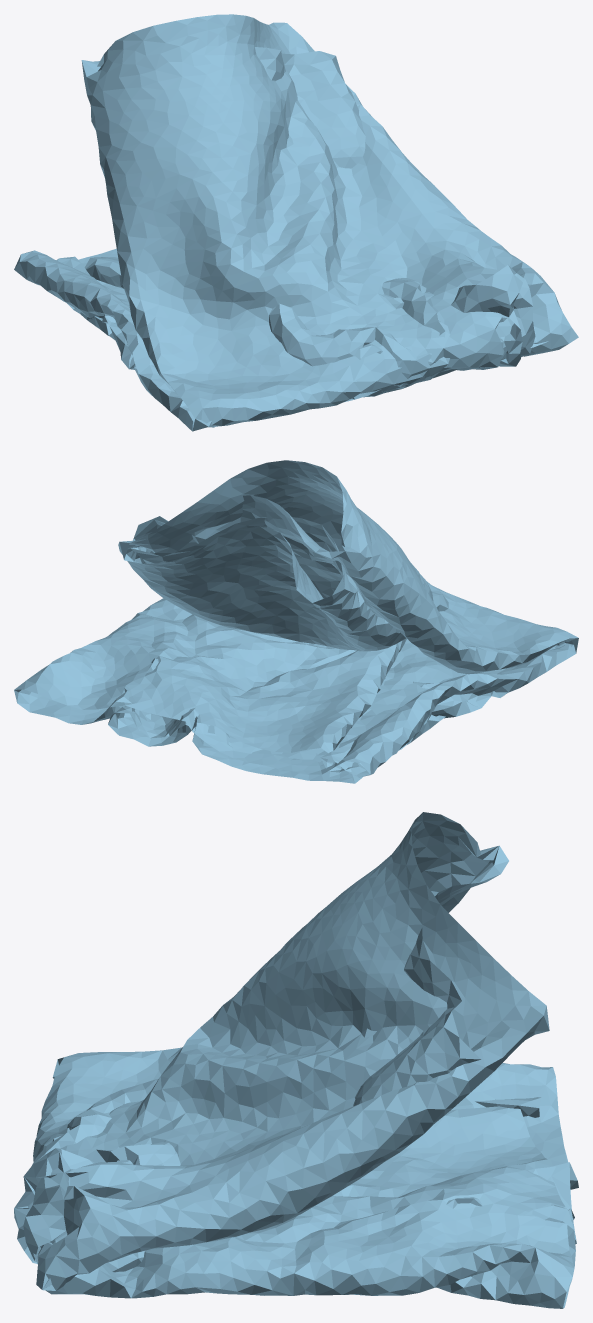
The model's file is frame_18.glb.
3 renders of one model, top to bottom at view 1: azimuth 30°, elevation 25°; view 2: azimuth 150°, elevation 25°; view 3: azimuth 270°, elevation 25°, orthographic. The views are drawn at different scales.
Parts seen in each view (by area): view 1: frame_18.obj; view 2: frame_18.obj; view 3: frame_18.obj.
Part boxes in pixels (box(x1,y1,x2,y2)): frame_18.obj: box(14, 14, 578, 431); frame_18.obj: box(14, 460, 578, 783); frame_18.obj: box(14, 812, 578, 1308).
Bounding box in the file's own units: 0.8893 × 0.6128 × 0.9065.
